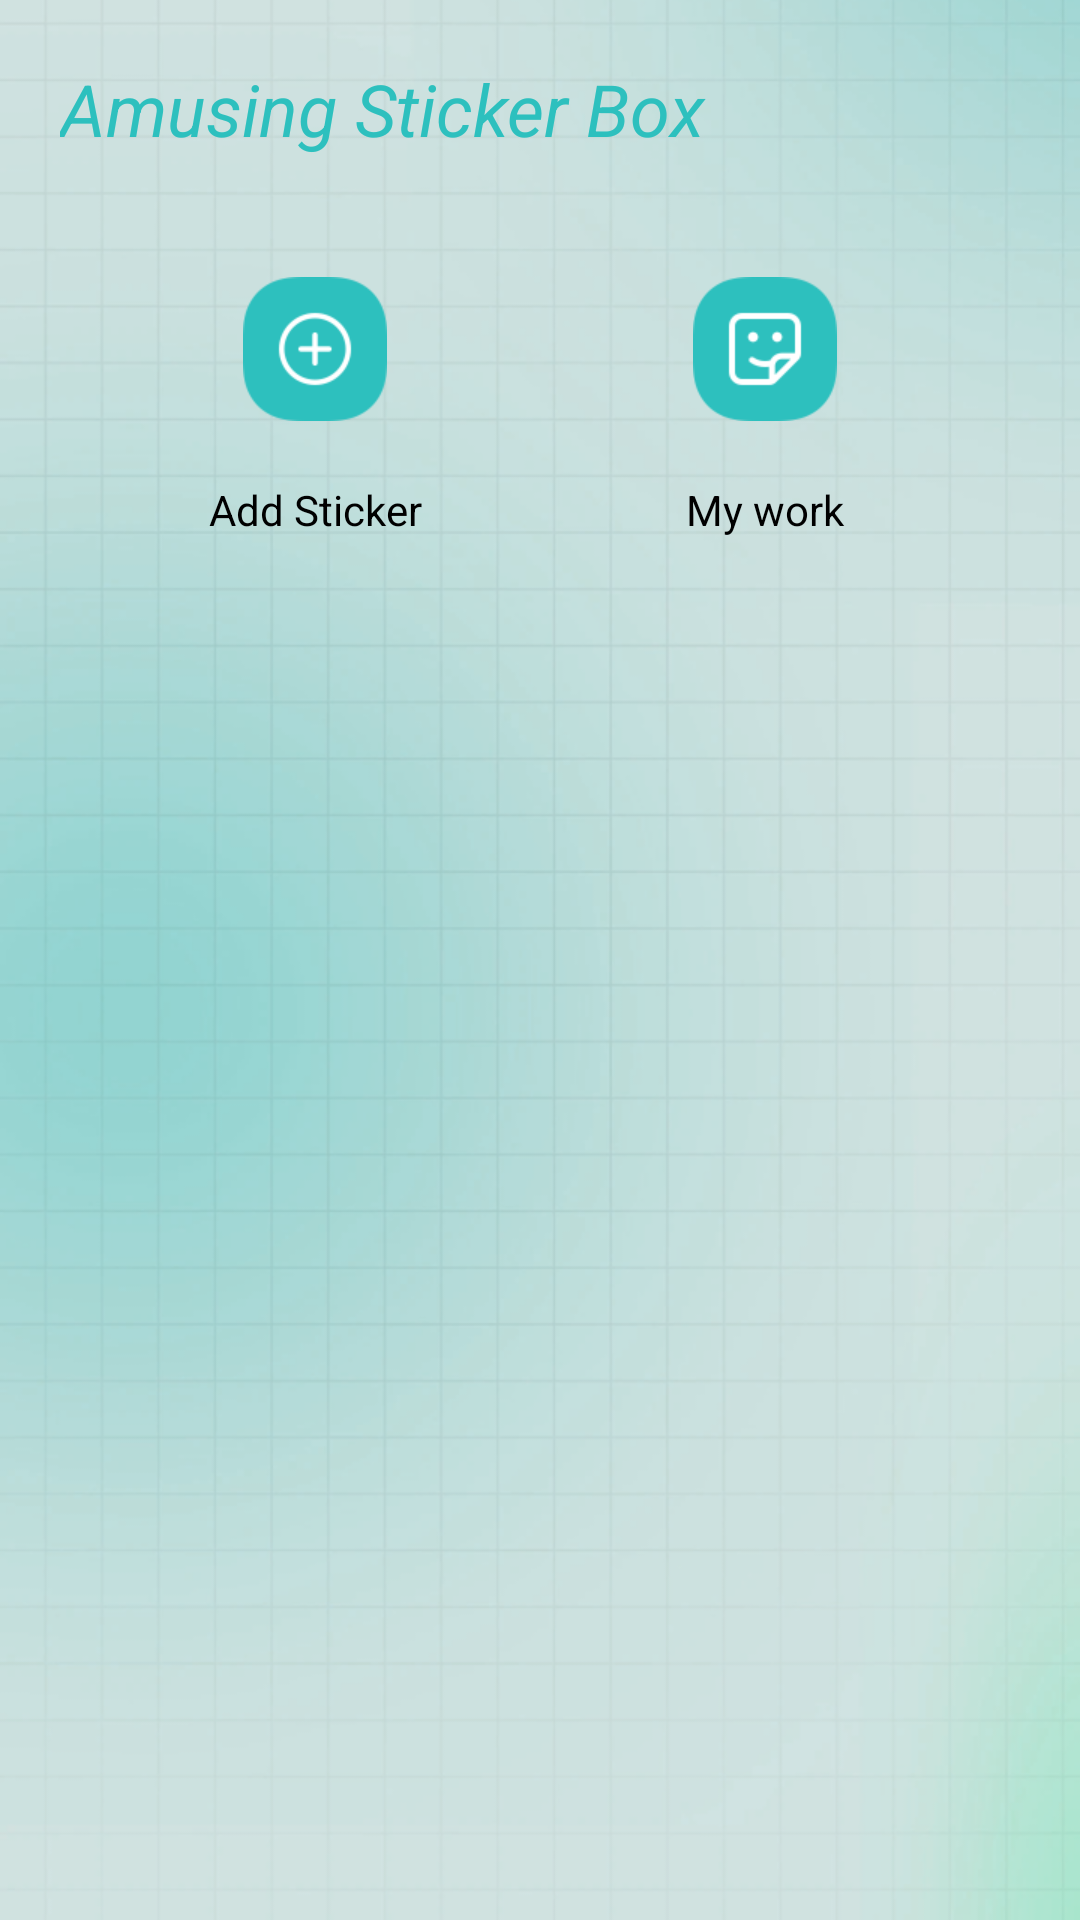

Point at icon controls on the screen. Image size 1080×1920, points as (x=x, y=y).
add home: (x=315, y=349)
